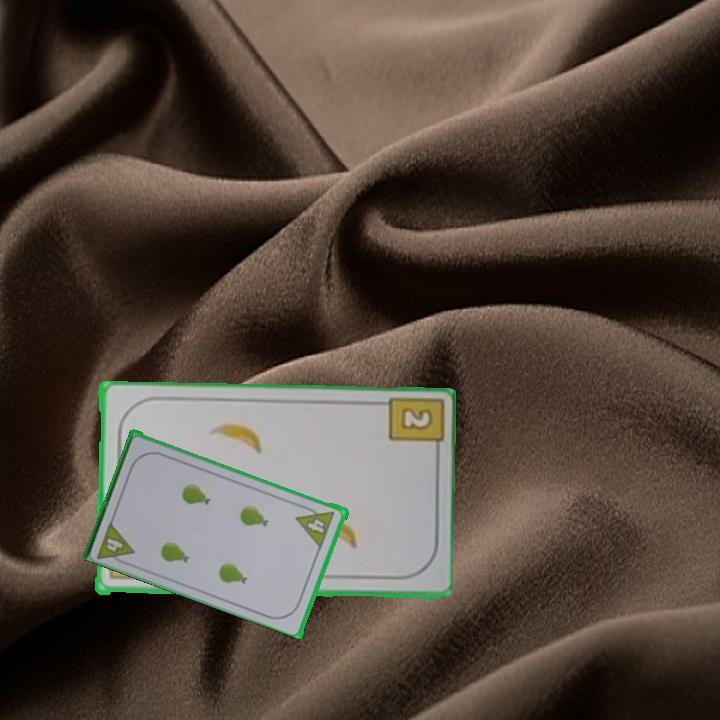2b: (382, 395, 443, 461)
4p: (293, 515, 330, 549), (103, 534, 126, 555)
